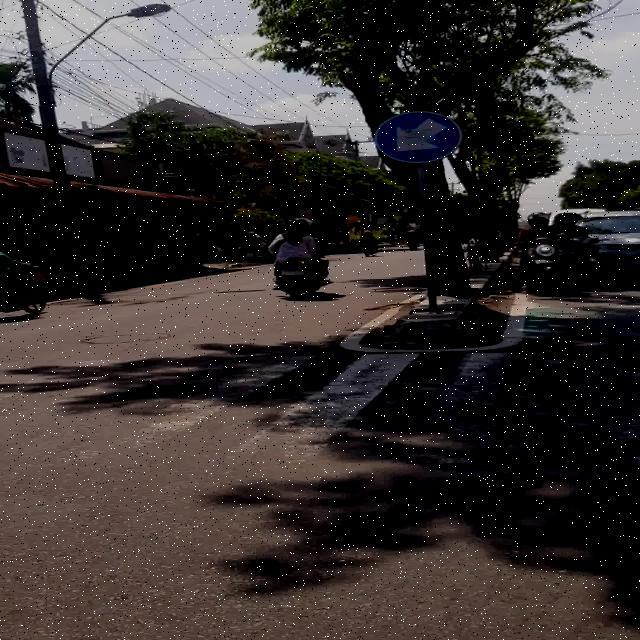Lajur Kiri: (374, 110, 462, 163)
